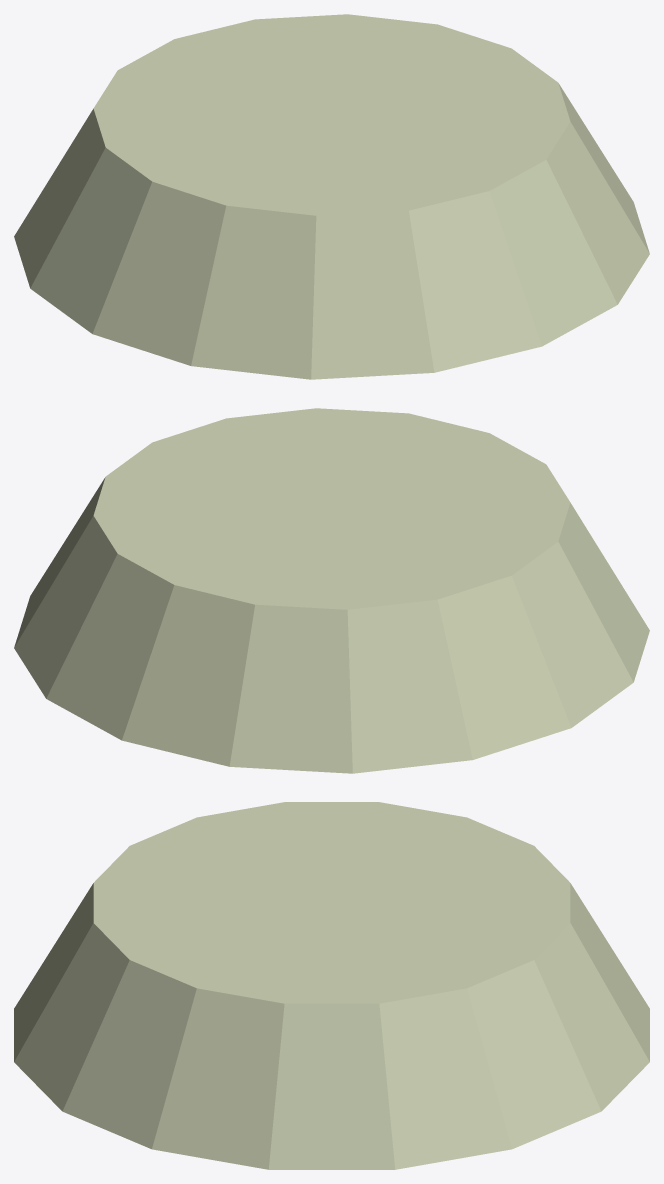
The model's file is alnair_crew_s2_1_collider.obj.
3 renders of one model, top to bottom at view 1: azimuth 30°, elevation 25°; view 2: azimuth 150°, elevation 25°; view 3: azimuth 270°, elevation 25°, orthographic.
Visible parts, largest first — view 1: collider; view 2: collider; view 3: collider.
Part boxes in pixels (x1,y1,x2,y2): collider: (14, 14, 649, 379); collider: (14, 408, 649, 773); collider: (14, 802, 649, 1169).
Bounding box in the file's own units: 2.5 × 0.575 × 2.5.
